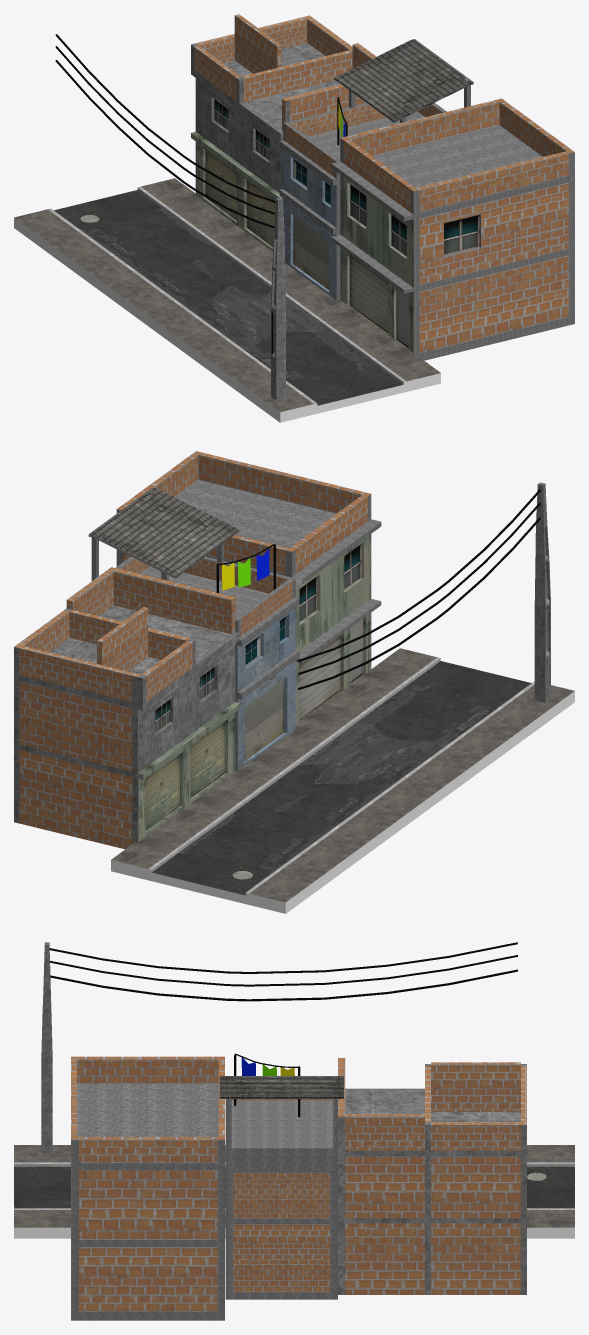
The picture shows the model from 3 angles, top to bottom: view 1: azimuth 30°, elevation 25°; view 2: azimuth 150°, elevation 25°; view 3: azimuth 270°, elevation 25°; orthographic projection. The views are drawn at different scales.
Visible parts, largest first — view 1: Object_13, Object_2, Object_5, Object_14, Object_8, Object_9, Object_24, Object_15, Object_34, Object_20, Object_21, Object_3 (+11 smaller); view 2: Object_8, Object_2, Object_5, Object_9, Object_13, Object_14, Object_24, Object_34, Object_15, Object_3, Object_21, Object_20 (+11 smaller); view 3: Object_8, Object_13, Object_14, Object_20, Object_19, Object_9, Object_2, Object_32, Object_5, Object_24, Object_33, Object_34 (+1 smaller).
Boxes of the visible parts, x1,y1,x2,y2 form: Object_13: (341,98,574,352); Object_2: (54,190,403,405); Object_5: (14,178,440,412); Object_14: (331,125,574,360); Object_8: (194,14,376,130); Object_9: (191,42,352,201); Object_24: (334,39,473,122); Object_15: (340,175,413,352); Object_34: (14,218,440,422); Object_20: (279,85,470,300); Object_21: (283,150,336,300); Object_3: (209,289,327,350); Object_8: (14,567,235,849); Object_2: (152,661,531,895); Object_5: (111,648,574,902); Object_9: (14,605,240,843); Object_13: (117,451,370,574); Object_14: (116,480,381,663); Object_24: (89,487,238,577); Object_34: (111,691,574,913); Object_15: (295,534,371,724); Object_3: (298,721,450,784); Object_21: (237,607,295,770); Object_20: (91,537,299,771); Object_8: (338,1058,526,1294); Object_13: (71,1056,224,1311); Object_14: (71,1084,224,1320); Object_20: (225,1099,337,1299); Object_19: (231,1099,333,1292); Object_9: (338,1064,526,1294); Object_2: (14,1166,574,1208); Object_32: (49,942,517,1001); Object_5: (14,1145,574,1227); Object_24: (219,1076,343,1098); Object_33: (41,942,52,1154); Object_34: (14,1227,574,1238).
Size of the model in its own units: 26.05 by 16.24 by 37.32.
35 materials, 24 textured.
